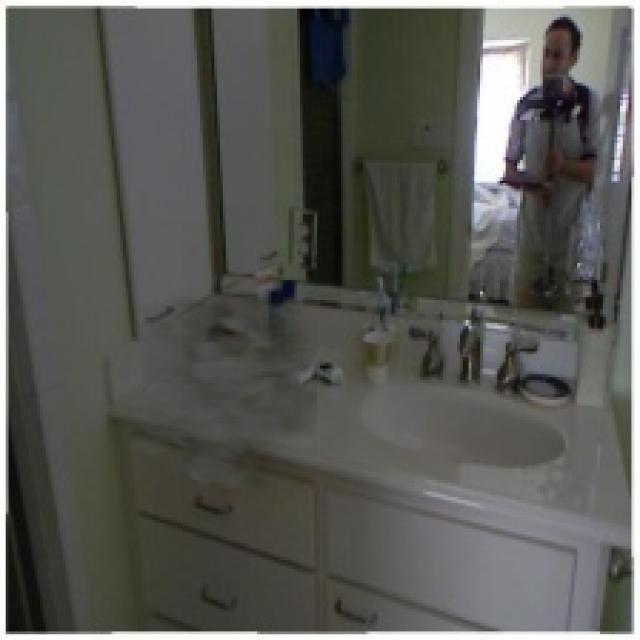smoke: (106, 283, 317, 488)
